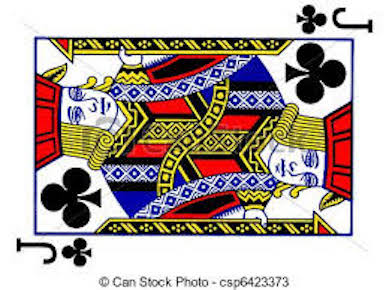JackOfClubs: (2, 3, 384, 270)
